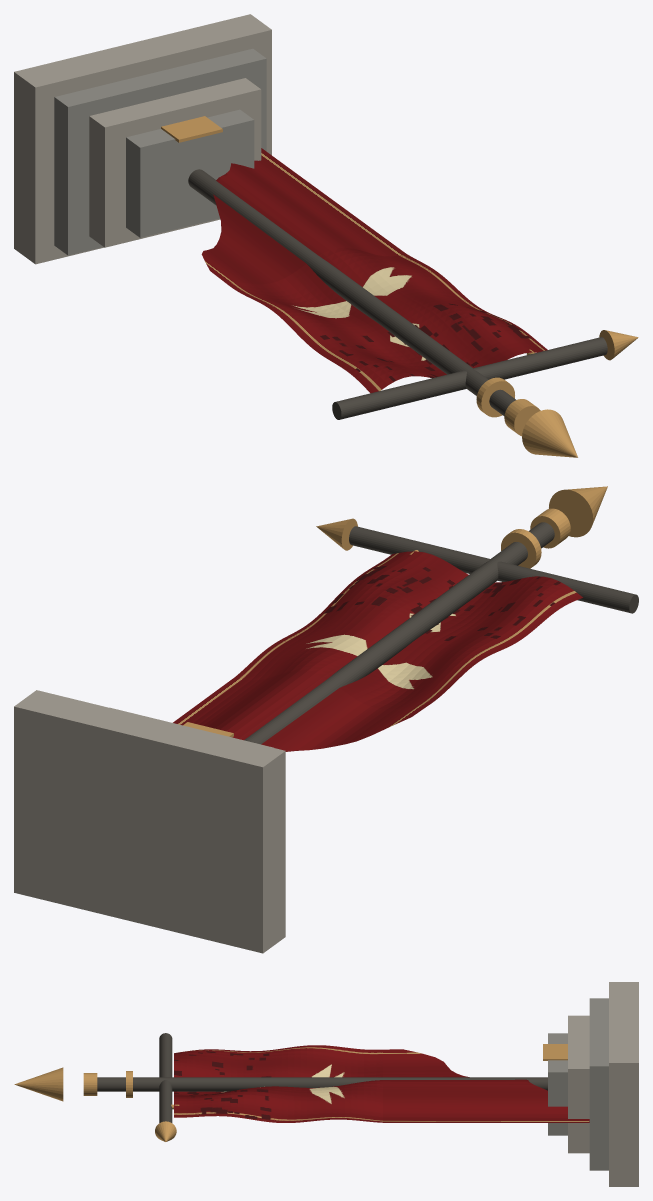
The model's file is havoc_flag_pole.glb.
The picture shows the model from 3 angles, top to bottom: view 1: azimuth 30°, elevation 25°; view 2: azimuth 150°, elevation 25°; view 3: azimuth 270°, elevation 25°; orthographic projection. The views are drawn at different scales.
Parts seen in each view (by area): view 1: Hanging_Banner, Pedestal_Base, Pedestal_Step1, Pedestal_Top, Pedestal_Step2, Main_Pole, Banner_Crossbar, Top_Spear, Pedestal_Decor, Top_Collar, Pole_Collar, Crossbar_Finial; view 2: Pedestal_Base, Hanging_Banner, Main_Pole, Banner_Crossbar, Top_Spear, Top_Collar, Pole_Collar, Crossbar_Finial; view 3: Hanging_Banner, Pedestal_Base, Main_Pole, Pedestal_Step1, Pedestal_Step2, Pedestal_Top, Banner_Crossbar, Top_Spear, Pedestal_Decor, Crossbar_Finial, Top_Collar.
Boxes of the visible parts, left/top/right/bottom form: Hanging_Banner: left=201, top=148, right=547, bottom=393; Pedestal_Base: left=14, top=14, right=271, bottom=264; Pedestal_Step1: left=54, top=48, right=266, bottom=255; Pedestal_Top: left=126, top=109, right=254, bottom=237; Pedestal_Step2: left=89, top=78, right=261, bottom=247; Main_Pole: left=188, top=169, right=515, bottom=416; Banner_Crossbar: left=332, top=337, right=607, bottom=419; Top_Spear: left=522, top=409, right=577, bottom=457; Pedestal_Decor: left=161, top=116, right=222, bottom=142; Top_Collar: left=504, top=399, right=540, bottom=436; Pole_Collar: left=476, top=377, right=514, bottom=417; Crossbar_Finial: left=599, top=330, right=638, bottom=360; Pedestal_Base: left=14, top=690, right=285, bottom=953; Hanging_Banner: left=173, top=551, right=582, bottom=751; Main_Pole: left=244, top=522, right=554, bottom=744; Banner_Crossbar: left=349, top=526, right=638, bottom=613; Top_Spear: left=549, top=486, right=607, bottom=537; Top_Collar: left=530, top=508, right=570, bottom=548; Pole_Collar: left=501, top=529, right=541, bottom=568; Crossbar_Finial: left=316, top=518, right=357, bottom=550; Hanging_Banner: left=174, top=1045, right=589, bottom=1122; Pedestal_Base: left=609, top=982, right=638, bottom=1186; Main_Pole: left=97, top=1077, right=547, bottom=1091; Pedestal_Step1: left=589, top=998, right=608, bottom=1170; Pedestal_Step2: left=568, top=1015, right=589, bottom=1153; Pedestal_Top: left=548, top=1033, right=567, bottom=1135; Banner_Crossbar: left=159, top=1033, right=172, bottom=1122; Top_Spear: left=14, top=1067, right=63, bottom=1101; Pedestal_Decor: left=543, top=1044, right=567, bottom=1060; Crossbar_Finial: left=155, top=1121, right=176, bottom=1141; Top_Collar: left=83, top=1073, right=97, bottom=1095.
Bounding box in the file's own units: 3.58 × 2 × 9.14.
Materials: 8 (1 with a texture image).
